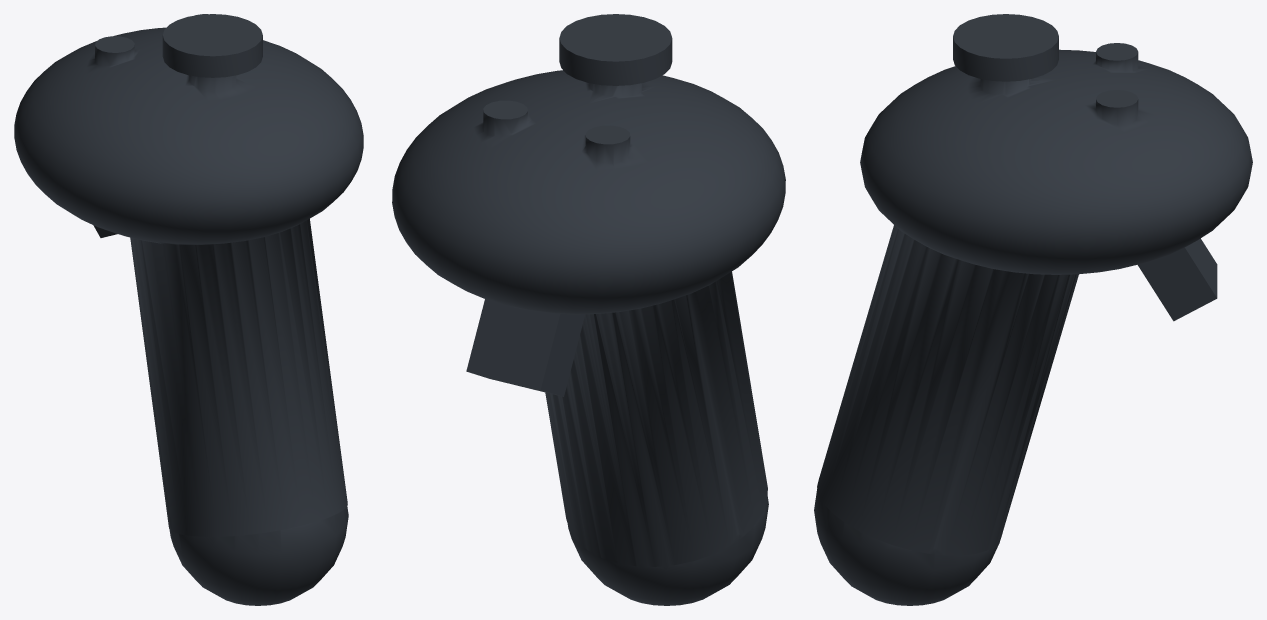
The model's file is oxrsys_controller.obj.
3 views of the same model, side by side, from view 1: azimuth 30°, elevation 25°; view 2: azimuth 150°, elevation 25°; view 3: azimuth 270°, elevation 25° (orthographic). The views are drawn at different scales.
Bounding box in the file's own units: 0.072 × 0.1225 × 0.0869.
1 material, 1 textured.
